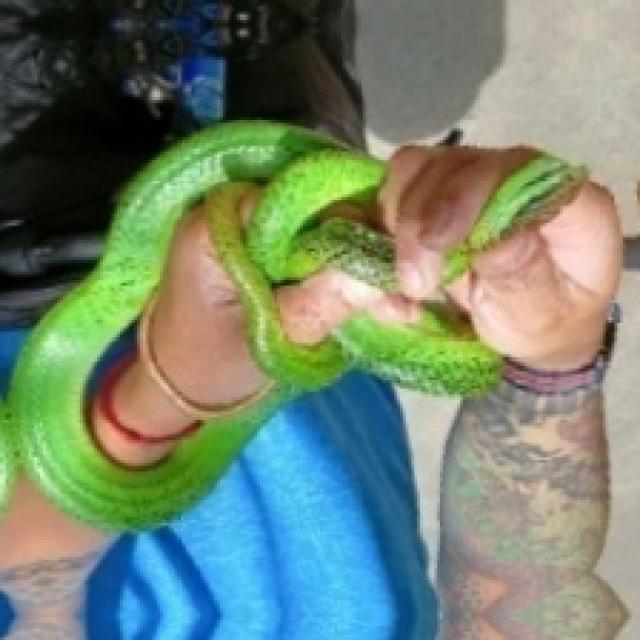red-tailed green ratsnake: (0, 121, 500, 529), (442, 152, 586, 283)
